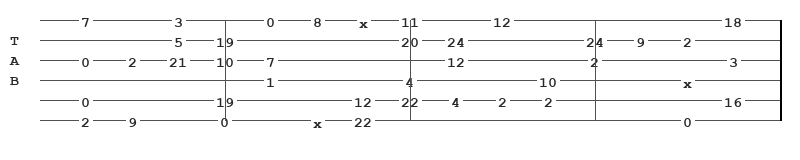0: (81, 54, 94, 67), (81, 94, 94, 107), (220, 114, 233, 127), (266, 14, 279, 27), (683, 114, 696, 127)
1: (266, 74, 279, 87)
10: (216, 54, 238, 67), (539, 74, 561, 87)
11: (401, 14, 423, 27)
12: (354, 94, 376, 107), (447, 54, 469, 67), (493, 14, 515, 27)
16: (724, 94, 746, 107)
18: (724, 14, 746, 27)
19: (216, 94, 238, 107), (216, 34, 238, 47)
2: (81, 114, 94, 127), (128, 54, 141, 67), (498, 94, 511, 107), (544, 94, 557, 107), (590, 54, 603, 67), (683, 34, 696, 47)
20: (401, 34, 423, 47)
21: (169, 54, 191, 67)
22: (354, 114, 376, 127), (401, 94, 423, 107)
24: (447, 34, 469, 47), (586, 34, 608, 47)
3: (174, 14, 187, 27), (729, 54, 742, 67)
4: (405, 74, 418, 87), (451, 94, 464, 107)
5: (174, 34, 187, 47)
7: (81, 14, 94, 27), (266, 54, 279, 67)
8: (313, 14, 326, 27)
9: (128, 114, 141, 127), (636, 34, 649, 47)
x: (313, 115, 326, 125), (359, 15, 372, 25), (683, 75, 696, 85)
